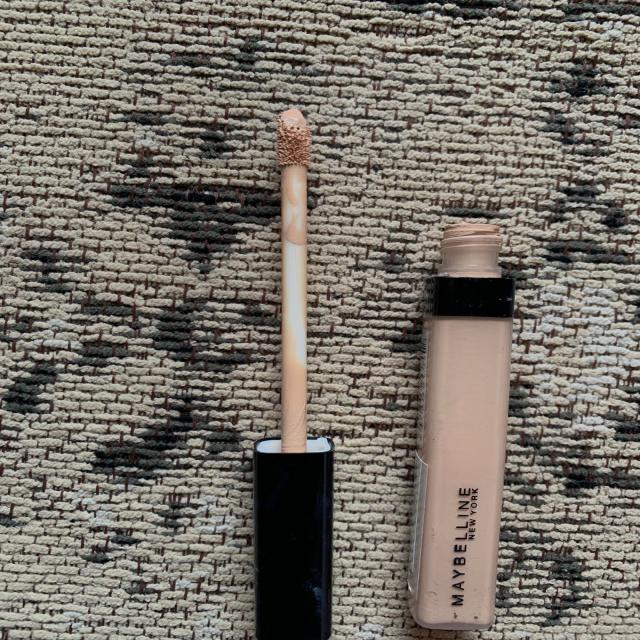concealer: (350, 198, 531, 640), (224, 102, 352, 640)
